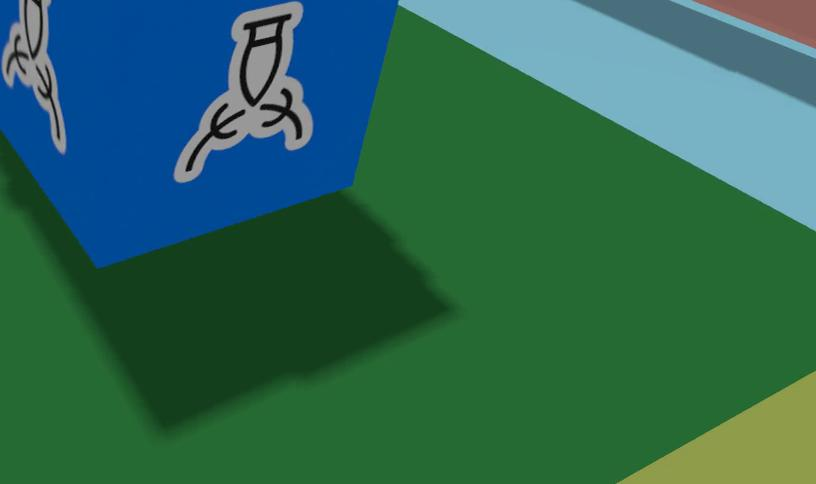KFS_REAL: (0, 0, 399, 266), (174, 2, 312, 182), (2, 0, 65, 153)
